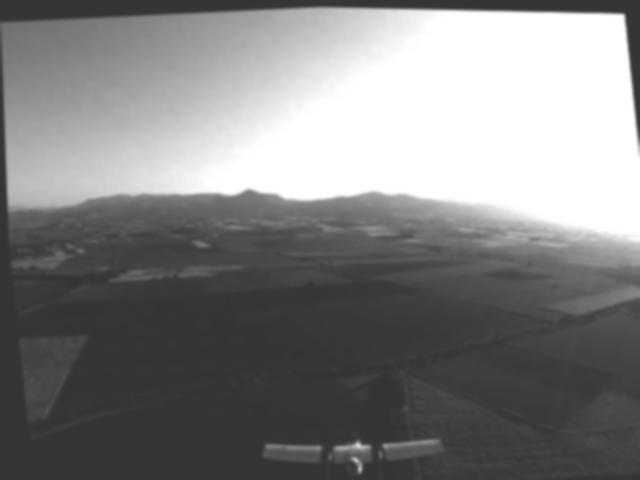hedef: (245, 410, 448, 480)
